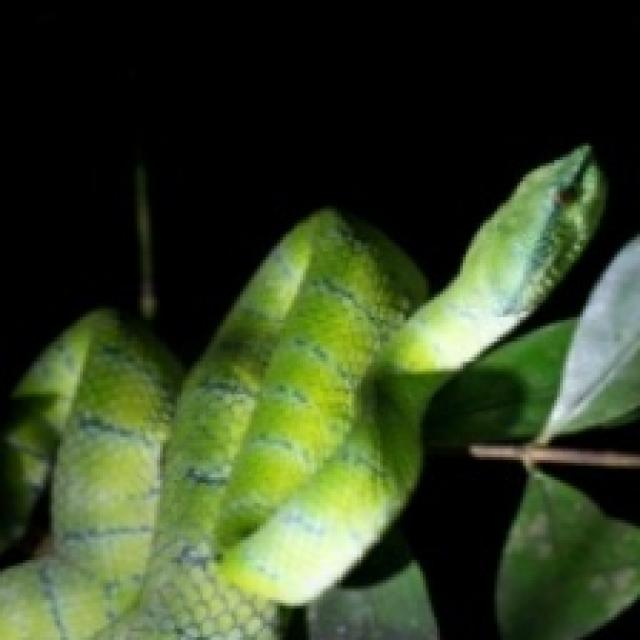north ph temple pitviper: (0, 146, 600, 637)
